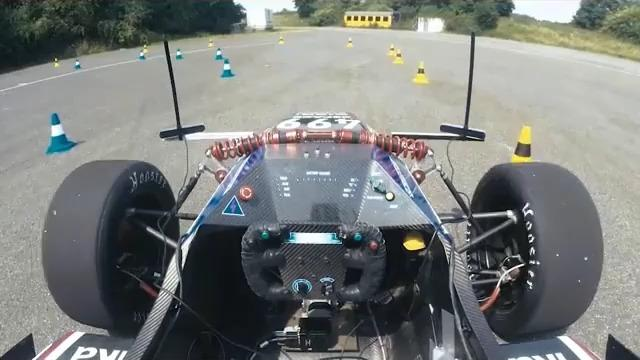blue_cone: (45, 113, 78, 155), (220, 57, 235, 78), (215, 47, 225, 61)
yellow_cone: (495, 125, 540, 189), (412, 61, 431, 83), (393, 48, 405, 64)
